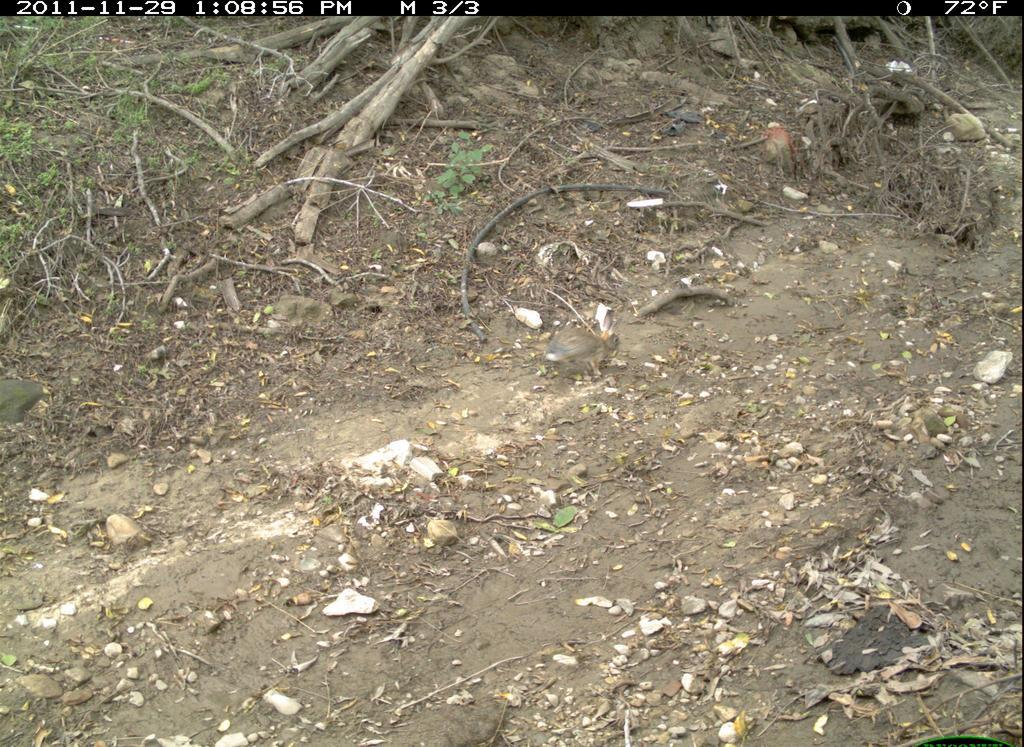rabbit: (544, 305, 623, 383)
